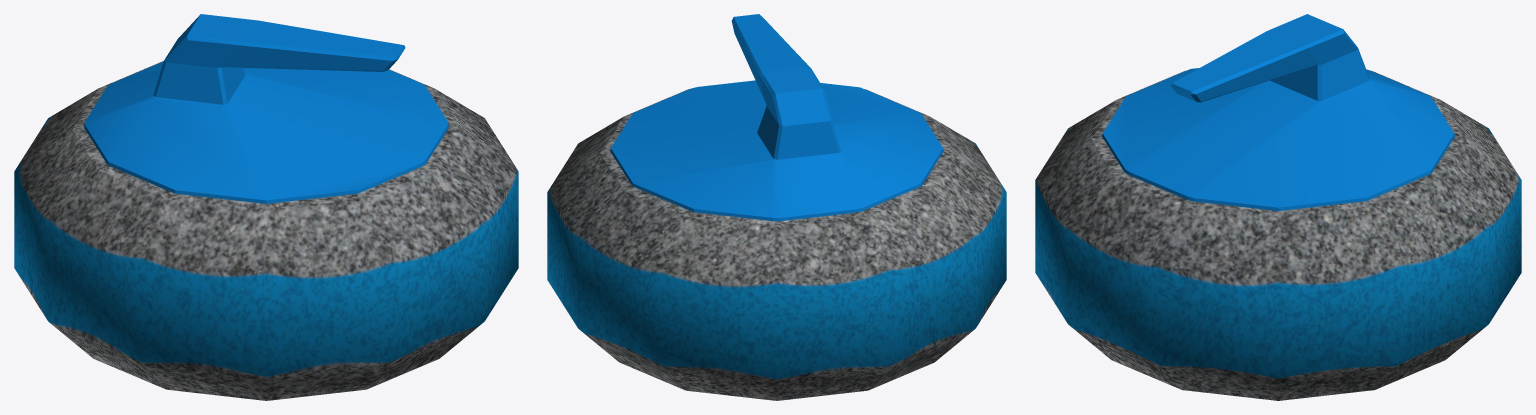
Rendered from stone_blue.FBX.
3 renders of one model, left to right at view 1: azimuth 30°, elevation 25°; view 2: azimuth 150°, elevation 25°; view 3: azimuth 270°, elevation 25°, orthographic. The views are drawn at different scales.
Parts seen in each view (by area): view 1: stone_blue; view 2: stone_blue; view 3: stone_blue.
Part boxes in pixels (left/top/right/bottom): stone_blue: left=14, top=14, right=518, bottom=400; stone_blue: left=547, top=14, right=1006, bottom=400; stone_blue: left=1035, top=14, right=1521, bottom=400.
Bounding box in the file's own units: 26 × 16.25 × 26.
